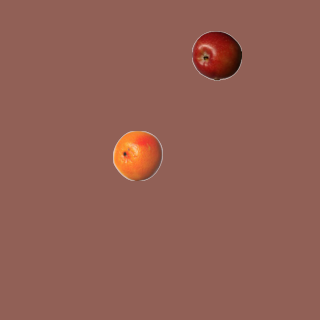Apple Braeburn: (191, 30, 241, 80)
Grapefruit Pink: (112, 130, 162, 180)
